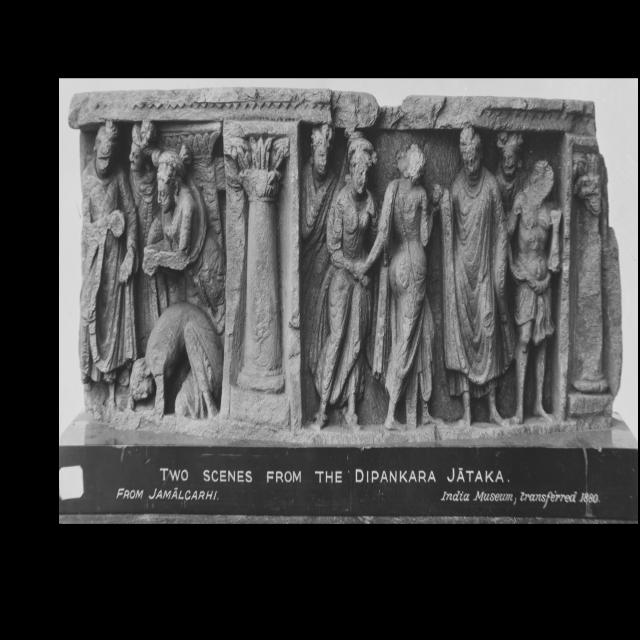buddha-standing: (434, 126, 514, 424), (78, 120, 138, 399)
